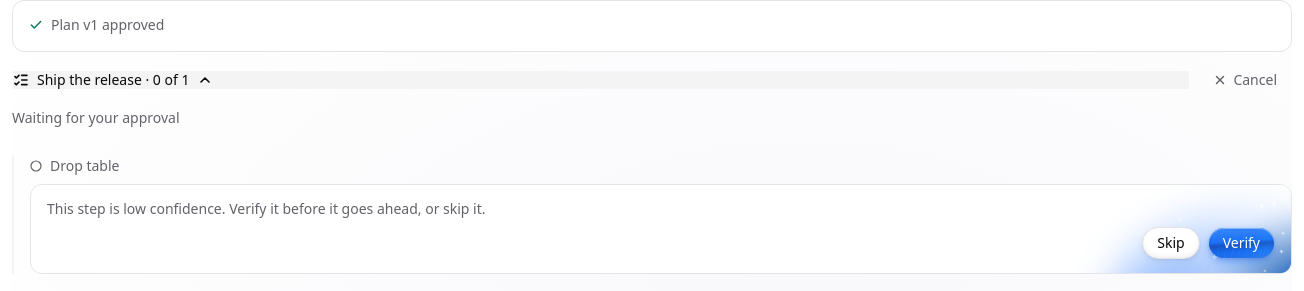
RunInline - Task › a low-confidence step can be skipped
This screenshot has width=1304, height=291.
Click the button "Skip". click: (1171, 243)
box: [1142, 227, 1200, 259]
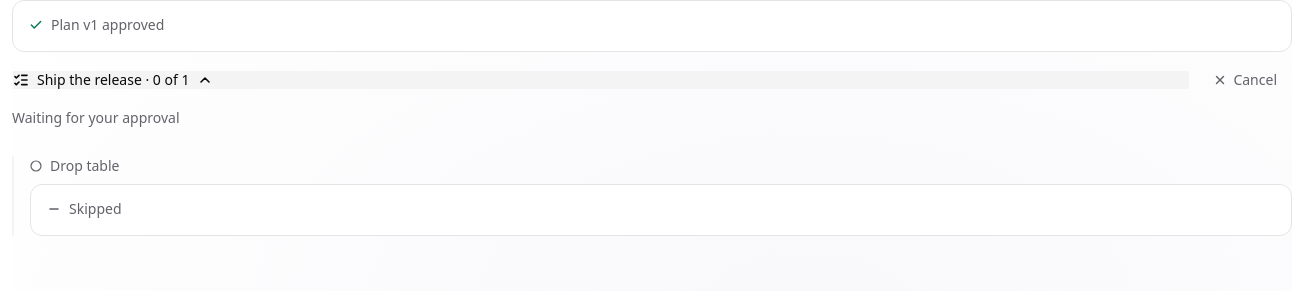
Expected: the text "Skipped" is shown, [69, 199, 122, 219]
